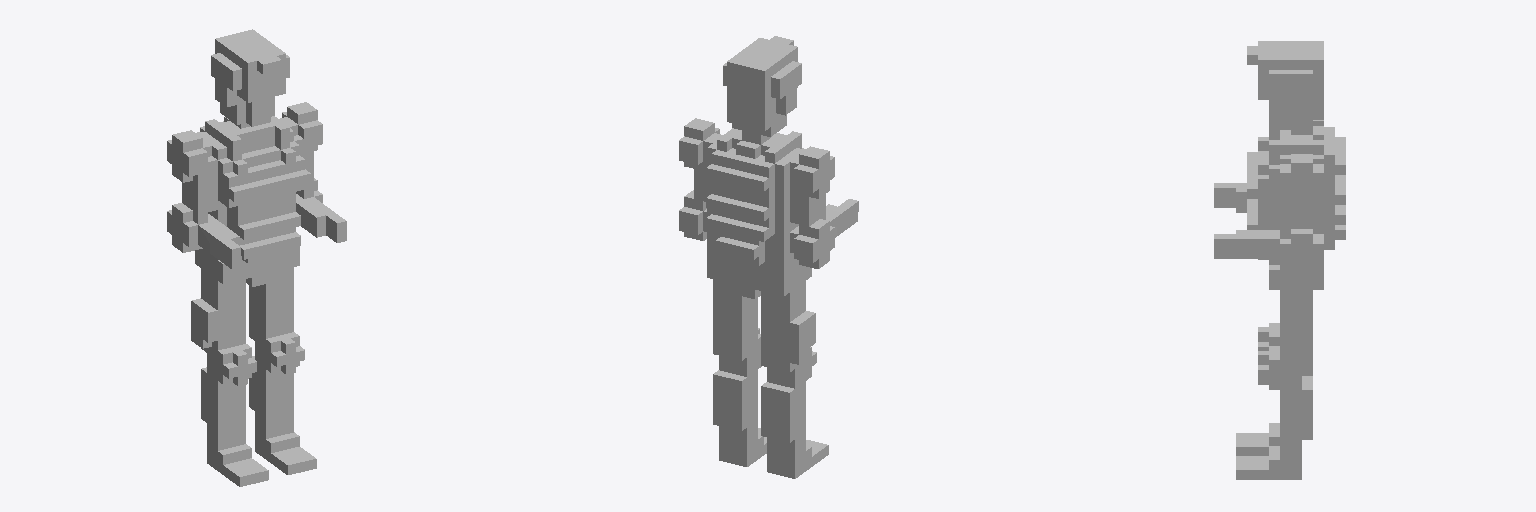
File: Gestapo-2.obj
The picture shows the model from 3 angles: view 1: azimuth 30°, elevation 25°; view 2: azimuth 150°, elevation 25°; view 3: azimuth 270°, elevation 25°; orthographic projection.
Visible parts, largest first — view 1: Untitled; view 2: Untitled; view 3: Untitled.
Part boxes in pixels (left/top/right/bottom): Untitled: left=167, top=29, right=346, bottom=486; Untitled: left=679, top=36, right=858, bottom=478; Untitled: left=1214, top=41, right=1345, bottom=479.
Bounding box in the file's own units: 1.4 × 4.1 × 1.2.